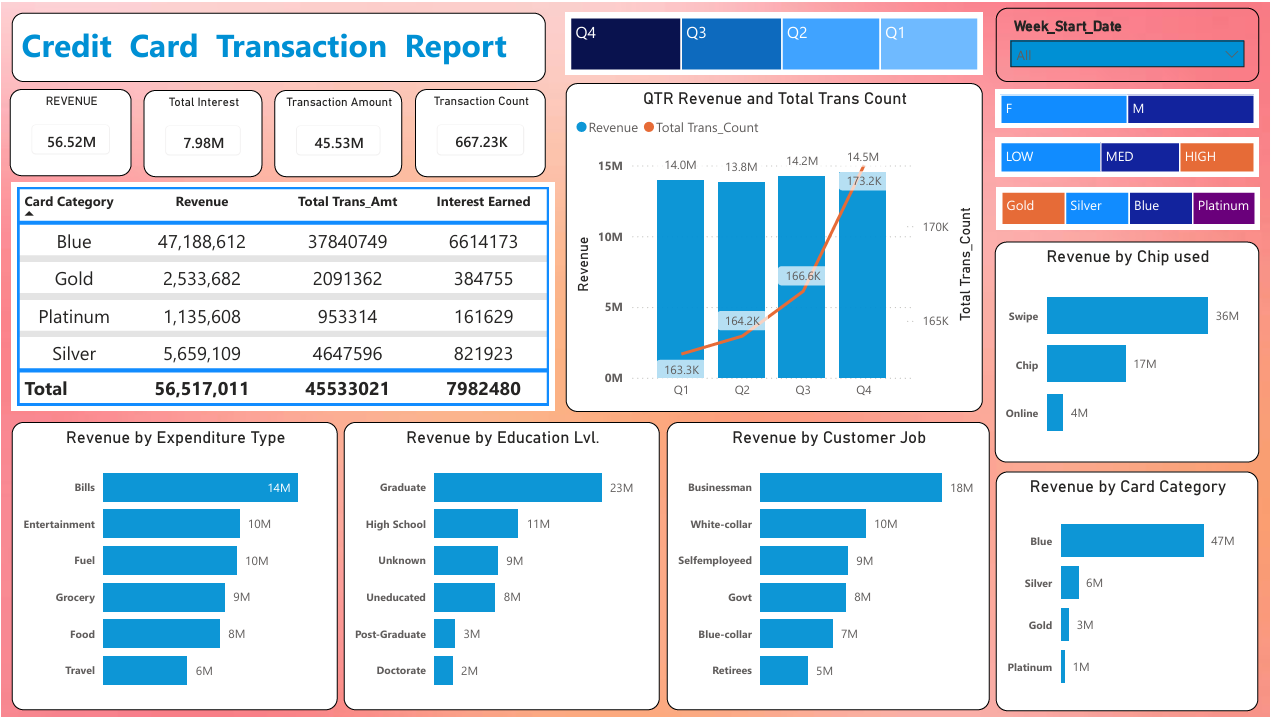

What the dashboard file says about the page in this screenshot:
{"tool":"powerbi","page":{"name":"Final_Weekly_Report","canvas":[1280,720],"ordinal":0},"visuals":[{"type":"textbox","box":[10,10,538.6,70],"z":0},{"type":"lineStackedColumnComboChart","title":"QTR Revenue and Total Trans Count","fields":{"Category":["public cc_detail.qtr"],"Y":["Sum(public cc_detail.Revenue)"],"Y2":["Sum(public cc_detail.total_trans_ct)"]},"box":[569.1,80.9,420.9,331.8],"z":1000},{"type":"barChart","title":"Revenue by Expenditure Type","fields":{"Y":["Sum(public cc_detail.Revenue)"],"Category":["public cc_detail.exp_type"]},"box":[10,422.5,329.2,291.7],"z":2000},{"type":"barChart","title":"Revenue by Education Lvl.","fields":{"Y":["Sum(public cc_detail.Revenue)"],"Category":["public cust_detail.education_level"]},"box":[345,422.5,319.2,291.7],"z":3000},{"type":"barChart","title":"Revenue by Customer Job","fields":{"Y":["Sum(public cc_detail.Revenue)"],"Category":["public cust_detail.customer_job"]},"box":[671.4,422.9,325.7,291.4],"z":4000},{"type":"barChart","title":"Revenue by Card Category","fields":{"Y":["Sum(public cc_detail.Revenue)"],"Category":["public cc_detail.card_category"]},"box":[1003.3,473.3,265,241.7],"z":5000},{"type":"barChart","title":"Revenue by Chip used","fields":{"Y":["Sum(public cc_detail.Revenue)"],"Category":["public cc_detail.use_chip"]},"box":[1002.3,240.8,266.9,223.1],"z":6000},{"type":"tableEx","fields":{"Values":["public cc_detail.card_category","Sum(public cc_detail.Revenue)","Sum(public cc_detail.total_trans_amt)","Sum(public cc_detail.interest_earned)"]},"box":[10,181.4,547.9,230.7],"z":7000},{"type":"cardVisual","title":"REVENUE","fields":{"Data":["Sum(public cc_detail.Revenue)"]},"box":[8.2,87.3,122.7,88.2],"z":8000},{"type":"cardVisual","title":"Transaction Amount","fields":{"Data":["Sum(public cc_detail.total_trans_amt)"]},"box":[275,87.5,128.8,88.8],"z":9000},{"type":"cardVisual","title":"Total Interest","fields":{"Data":["Sum(public cc_detail.interest_earned)"]},"box":[142.5,88.1,120,88.1],"z":10000},{"type":"cardVisual","title":"Transaction Count","fields":{"Data":["Sum(public cc_detail.total_trans_ct)"]},"box":[417.1,87.1,131.4,88.6],"z":11000},{"type":"slicer","fields":{"Values":["public cc_detail.WeekStartMonday"]},"box":[1002.5,5,266.2,75],"z":12000},{"type":"treemap","fields":{"Group":["public cc_detail.qtr"],"Values":["Avg(public cc_detail.client_num)"]},"box":[569.1,10,420.9,62.7],"z":13000},{"type":"treemap","fields":{"Group":["public cust_detail.gender"],"Values":["Avg(public cc_detail.client_num)"]},"box":[1002.5,87.5,266.7,39.2],"z":14000},{"type":"treemap","fields":{"Group":["public cc_detail.card_category"],"Values":["Avg(public cc_detail.client_num)"]},"box":[1003.5,186.5,266.5,42.9],"z":15000},{"type":"treemap","fields":{"Group":["public cust_detail.IncomeGroup"],"Values":["Sum(public cc_detail.client_num)"]},"box":[1002.7,136.4,266.4,40],"z":16000}]}

Visuals, with their boxes in screenshot pixels (x1, y1, x2, y2), scaled from the page's 1280x720 canvas onto the 1272x720 screenshot:
textbox: 10:10:545:80
"QTR Revenue and Total Trans Count" lineStackedColumnComboChart: 566:81:984:413
"Revenue by Expenditure Type" barChart: 10:422:337:714
"Revenue by Education Lvl." barChart: 343:422:660:714
"Revenue by Customer Job" barChart: 667:423:991:714
"Revenue by Card Category" barChart: 997:473:1260:715
"Revenue by Chip used" barChart: 996:241:1261:464
tableEx - public cc_detail.card_category x Sum(public cc_detail.Revenue): 10:181:554:412
"REVENUE" cardVisual: 8:87:130:176
"Transaction Amount" cardVisual: 273:88:401:176
"Total Interest" cardVisual: 142:88:261:176
"Transaction Count" cardVisual: 414:87:545:176
slicer - public cc_detail.WeekStartMonday: 996:5:1261:80
treemap - public cc_detail.qtr x Avg(public cc_detail.client_num): 566:10:984:73
treemap - public cust_detail.gender x Avg(public cc_detail.client_num): 996:88:1261:127
treemap - public cc_detail.card_category x Avg(public cc_detail.client_num): 997:186:1262:229
treemap - public cust_detail.IncomeGroup x Sum(public cc_detail.client_num): 996:136:1261:176
